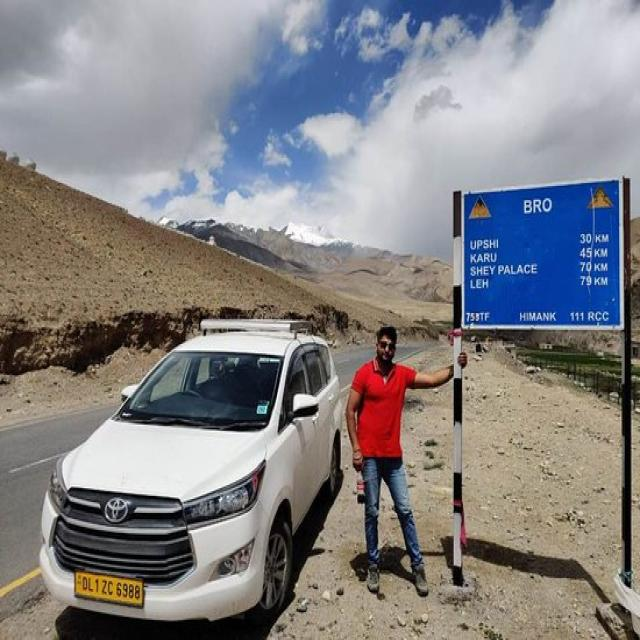plate: (70, 564, 148, 611)
